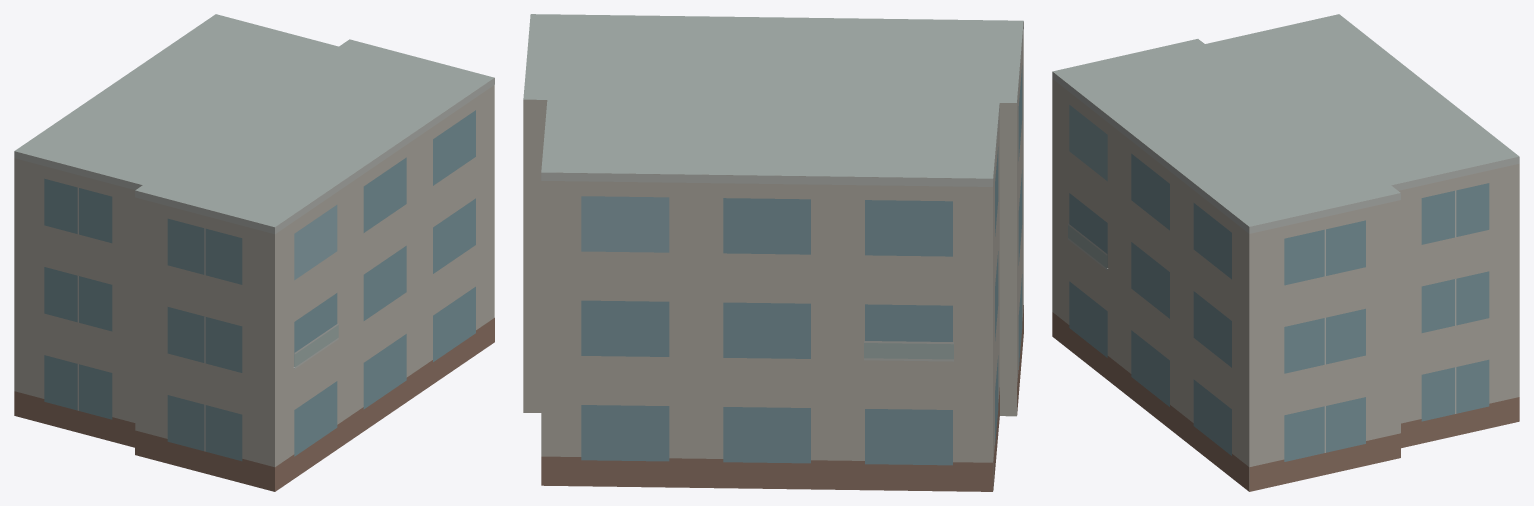
Rendered from survey-upis-32705184.glb.
3 renders of one model, left to right at view 1: azimuth 30°, elevation 25°; view 2: azimuth 150°, elevation 25°; view 3: azimuth 270°, elevation 25°, orthographic. The views are drawn at different scales.
Parts seen in each view (by area): view 1: survey-upis-32705184.tmp; view 2: survey-upis-32705184.tmp; view 3: survey-upis-32705184.tmp.
Part boxes in pixels (x1,y1,x2,y2): survey-upis-32705184.tmp: (14,14,494,491); survey-upis-32705184.tmp: (523,14,1023,491); survey-upis-32705184.tmp: (1052,14,1519,491).
Size of the model in its own units: 15.78 by 9.15 by 14.64.
